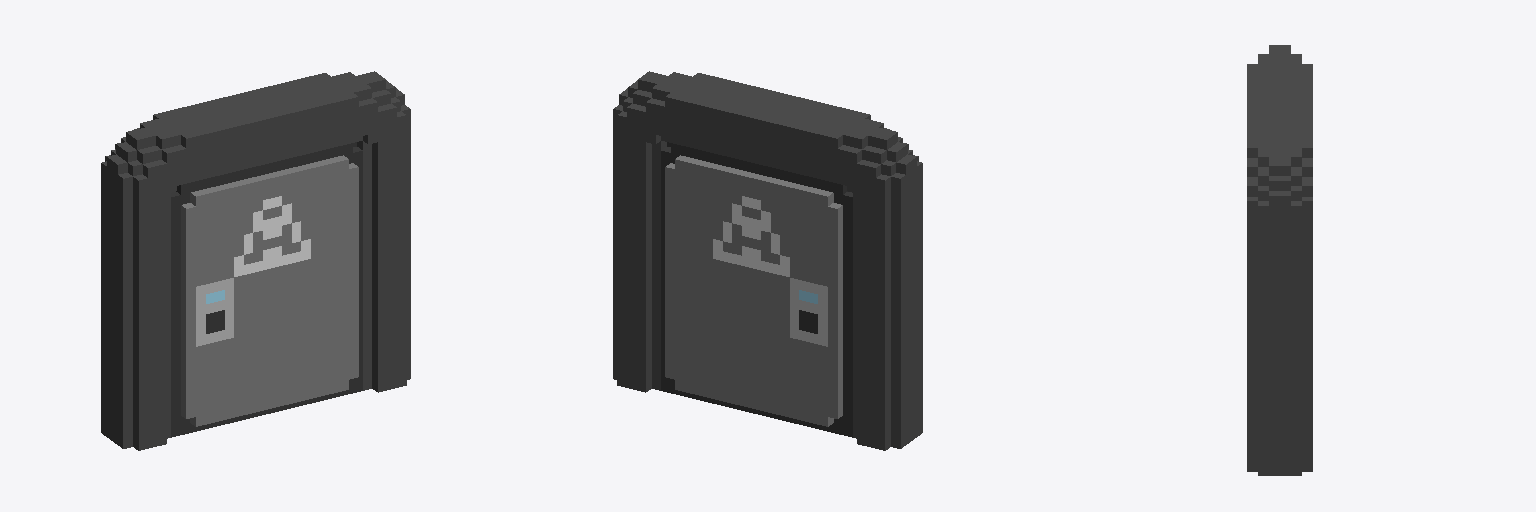
The picture shows the model from 3 angles: view 1: azimuth 30°, elevation 25°; view 2: azimuth 150°, elevation 25°; view 3: azimuth 270°, elevation 25°; orthographic projection.
Visible parts, largest first — view 1: Door, default; view 2: Door, default; view 3: Door.
Part boxes in pixels (x1,y1,x2,y2): Door: (101,71,410,450); default: (171,142,362,437); Door: (613,71,922,450); default: (661,142,852,437); Door: (1247,45,1312,475).
Size of the model in its own units: 1.5 by 1.5 by 0.3.
1 materials, 1 textured.